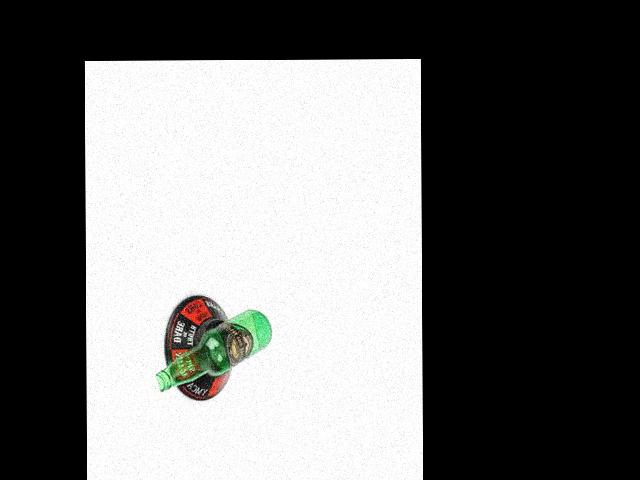beer: (155, 308, 271, 390)
